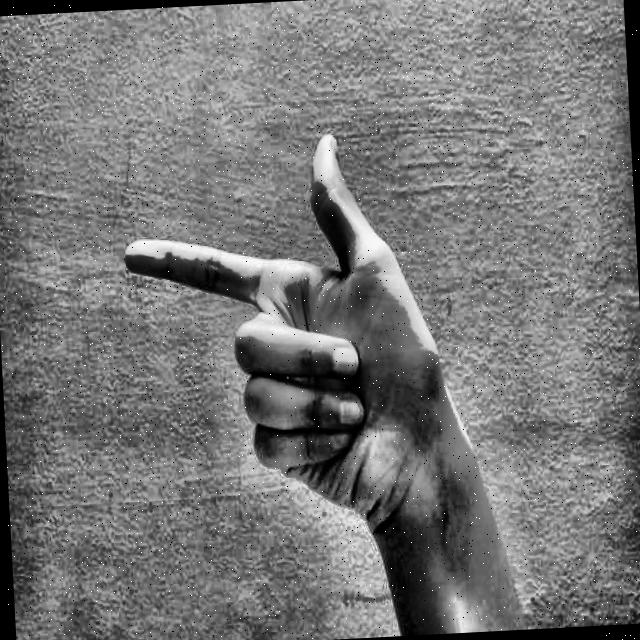Tho: (97, 90, 519, 544)
